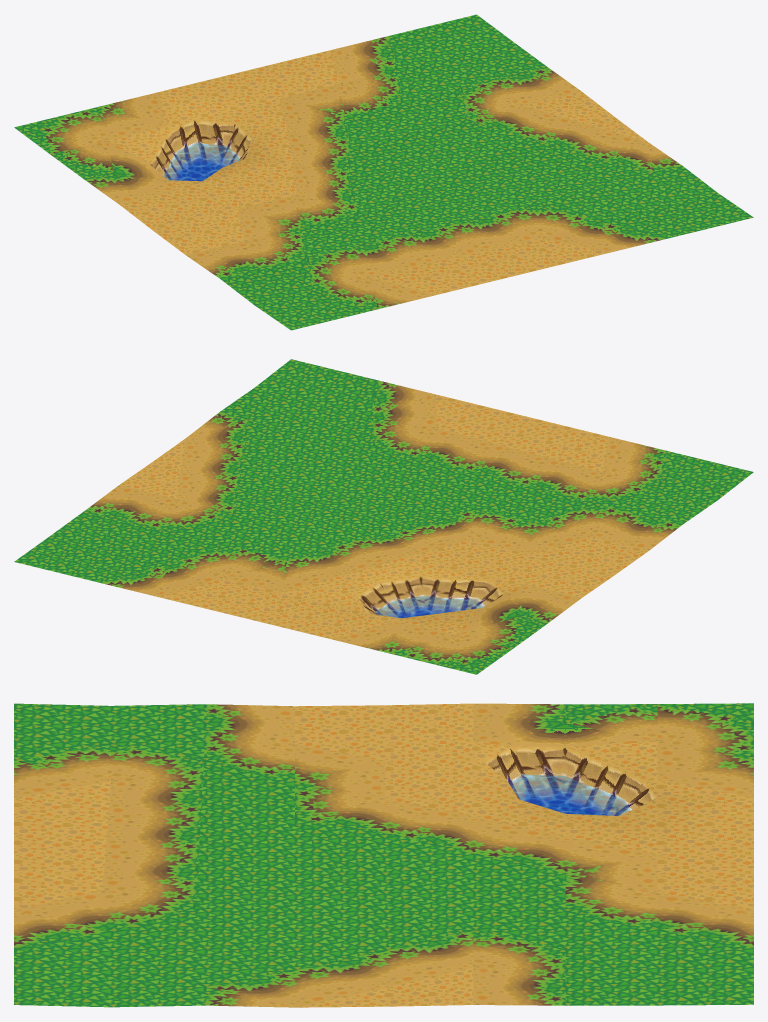
The model's file is c_grd_f_6.001.glb.
The picture shows the model from 3 angles, top to bottom: view 1: azimuth 30°, elevation 25°; view 2: azimuth 150°, elevation 25°; view 3: azimuth 270°, elevation 25°; orthographic projection. The views are drawn at different scales.
Parts seen in each view (by area): view 1: c_grd_f_6.001; view 2: c_grd_f_6.001; view 3: c_grd_f_6.001.
Boxes of the visible parts, x1=… form: c_grd_f_6.001: x1=14, y1=14, x2=753, y2=330; c_grd_f_6.001: x1=14, y1=359, x2=753, y2=674; c_grd_f_6.001: x1=14, y1=703, x2=753, y2=1007.
Bounding box in the file's own units: 32 × 4.07 × 33.2.
Materials: 5 (5 with a texture image).
